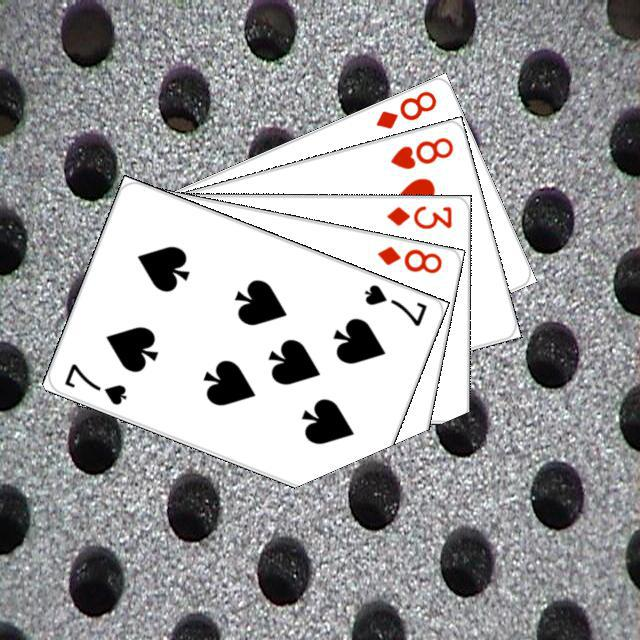3d: (382, 200, 454, 230)
7s: (359, 279, 429, 328), (59, 358, 129, 407)
8d: (370, 85, 439, 131), (372, 241, 444, 276)
8h: (385, 132, 455, 171)
